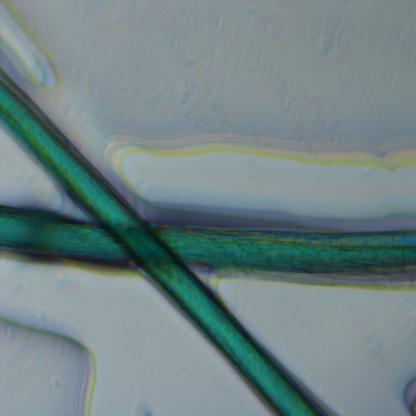Air bubble: (104, 130, 416, 226), (0, 313, 104, 415), (0, 2, 58, 89)
Background material: (400, 375, 416, 415)
Microfibre: (0, 65, 331, 414), (0, 206, 416, 292)
